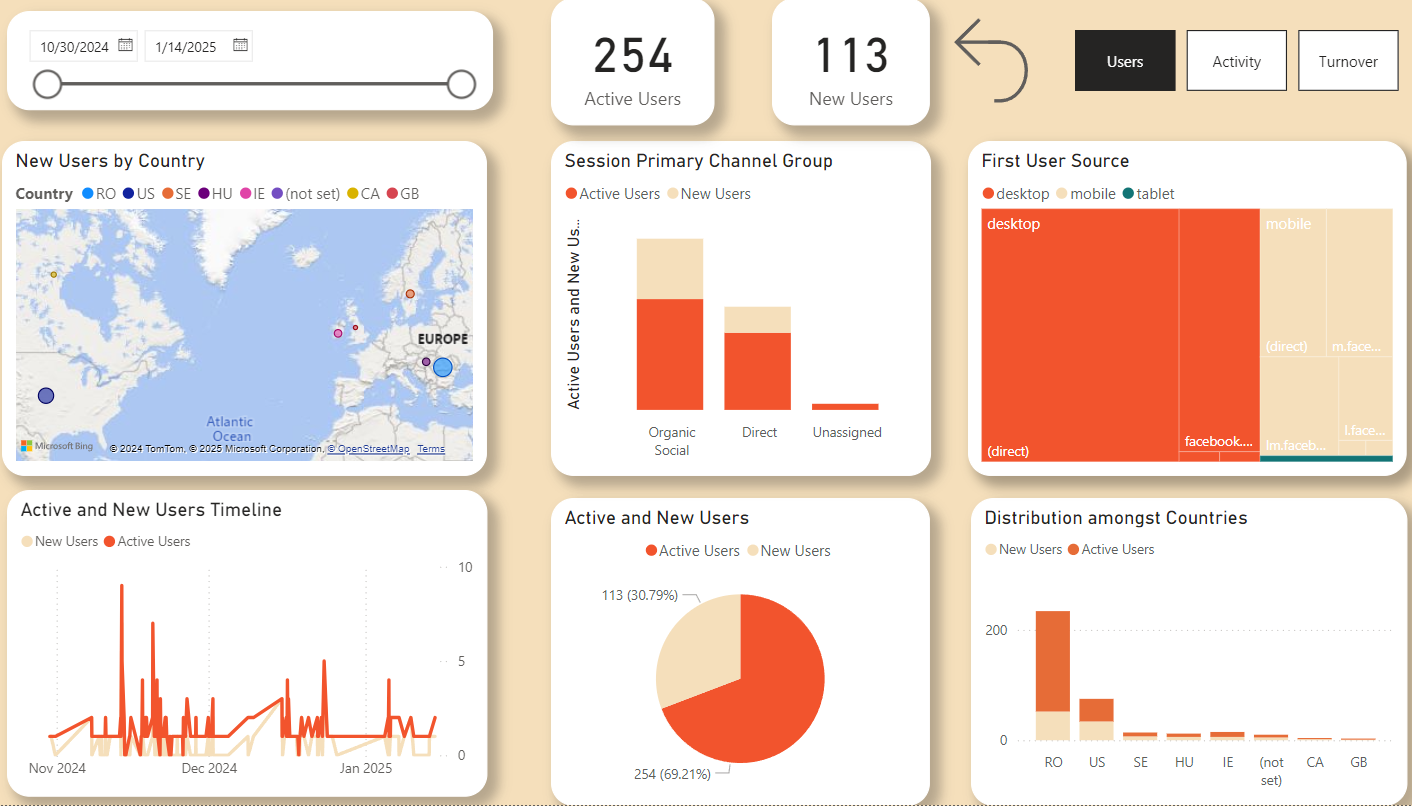

The page's visual inventory and layout, read from the dashboard file:
{"tool":"powerbi","page":{"name":"Users","canvas":[1280,720],"ordinal":0},"visuals":[{"type":"map","title":"New Users by Country","fields":{"Category":["György Tibor.countryId"],"Series":["György Tibor.countryId"],"Size":["György Tibor.newUsers"]},"box":[12.6,131.3,429.9,296.7],"z":0},{"type":"lineChart","title":"Active and New Users Timeline","fields":{"Y2":["Users.newUsers","György Tibor.activeUsers"],"Category":["Users.date.Variation.Date Hierarchy.Year"]},"box":[16.8,440.7,425.6,272.2],"z":1000},{"type":"slicer","fields":{"Values":["Date.Date"]},"box":[17,16,430.7,87.9],"z":2000},{"type":"pieChart","title":"Active and New Users","fields":{"Y":["György Tibor.activeUsers","György Tibor.newUsers"]},"box":[499.6,447.7,335.7,272.8],"z":3000},{"type":"columnChart","title":"Distribution amongst  Countries","fields":{"Category":["Users.countryId"],"Y":["Users.newUsers","Users.activeUsers"]},"box":[871.3,447.7,386.7,272.8],"z":4000},{"type":"columnChart","title":"Session Primary Channel Group","fields":{"Y":["Users.activeUsers","Users.newUsers"],"Category":["Users.sessionPrimaryChannelGroup"]},"box":[499.6,130.9,336.7,296.8],"z":5000},{"type":"treemap","title":"First User Source","fields":{"Group":["Users.deviceCategory"],"Values":["Users.activeUsers"],"Details":["Users.firstUserSource"]},"box":[869.3,130.9,388.7,296.8],"z":6000},{"type":"card","fields":{"Values":["Users.activeUsers"]},"box":[499.6,4,144.9,112.9],"z":7000},{"type":"card","fields":{"Values":["Users.newUsers"]},"box":[695.5,4,139.9,112.9],"z":8000},{"type":"actionButton","box":[843.3,13,314.8,92.9],"z":9000},{"type":"pageNavigator","box":[963.8,32.8,287.3,54.1],"z":10000}]}

Visuals, with their boxes in screenshot pixels (x1, y1, x2, y2), scaled from the page's 1280x720 canvas onto the 1412x806 screenshot:
"New Users by Country" map: crop(14, 147, 488, 479)
"Active and New Users Timeline" lineChart: crop(19, 493, 488, 798)
slicer - Date.Date: crop(19, 18, 494, 116)
"Active and New Users" pieChart: crop(551, 501, 921, 805)
"Distribution amongst  Countries" columnChart: crop(961, 501, 1388, 805)
"Session Primary Channel Group" columnChart: crop(551, 147, 923, 479)
"First User Source" treemap: crop(959, 147, 1388, 479)
card - Users.activeUsers: crop(551, 4, 711, 131)
card - Users.newUsers: crop(767, 4, 922, 131)
actionButton: crop(930, 15, 1278, 119)
pageNavigator: crop(1063, 37, 1380, 97)
